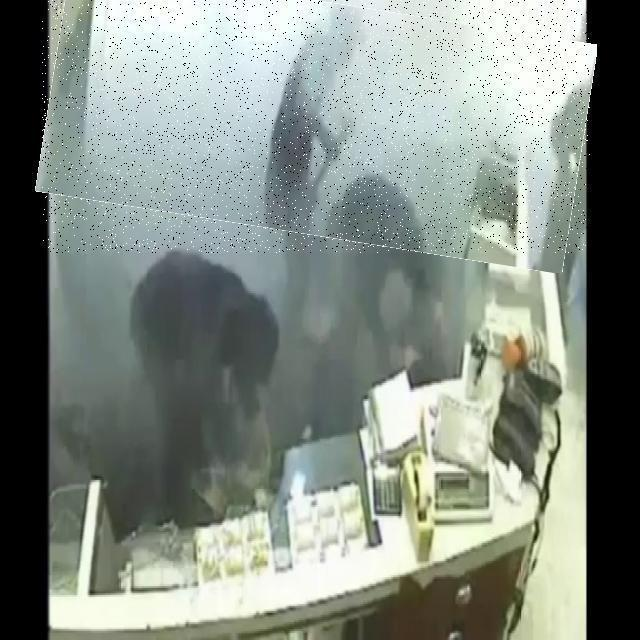smoke: (42, 0, 590, 253)
